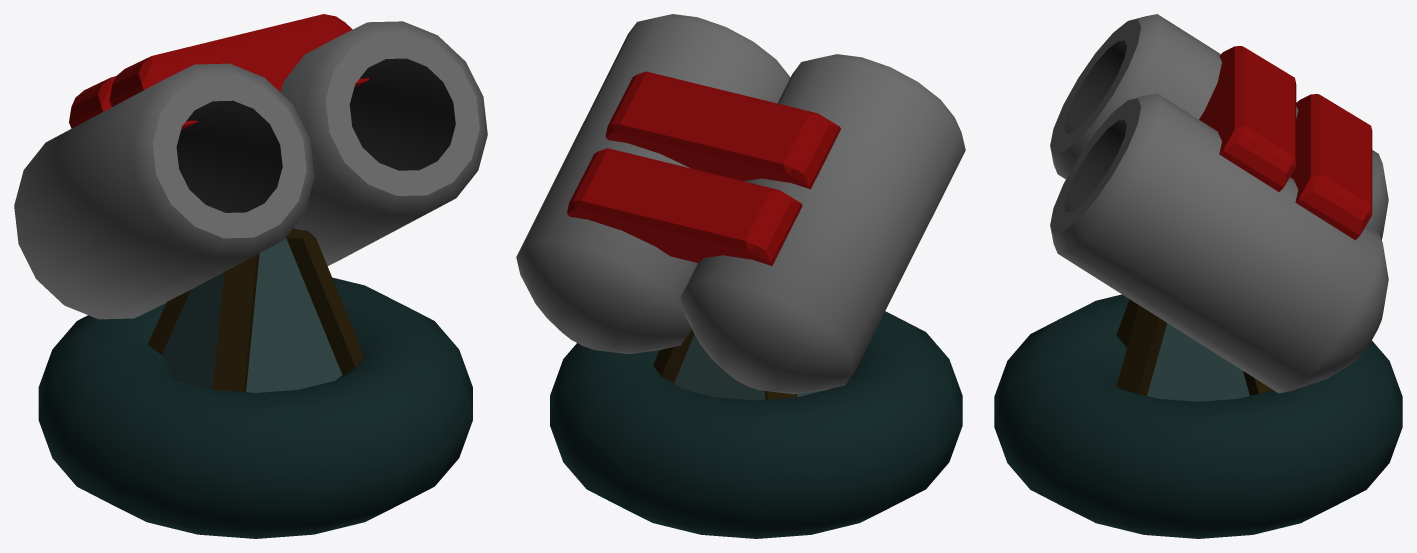
File: anbomb.fbx
The picture shows the model from 3 angles, left to right: view 1: azimuth 30°, elevation 25°; view 2: azimuth 150°, elevation 25°; view 3: azimuth 270°, elevation 25°; orthographic projection. The views are drawn at different scales.
Visible parts, largest first — view 1: Turret, Base; view 2: Turret, Base; view 3: Turret, Base.
Boxes of the visible parts, x1,y1,x2,y2 form: Turret: [14, 14, 487, 319]; Base: [38, 228, 472, 538]; Turret: [516, 14, 965, 394]; Base: [550, 311, 962, 538]; Turret: [1050, 14, 1388, 393]; Base: [994, 294, 1402, 538].
Bounding box in the file's own units: 70.41 × 76.91 × 69.34.
